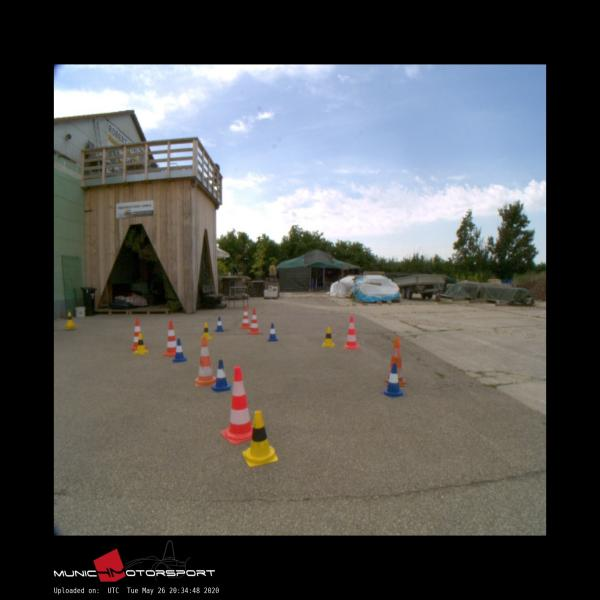blue_cone: (210, 359, 232, 392), (382, 364, 403, 396), (172, 338, 186, 360), (268, 323, 278, 340), (215, 316, 223, 331)
large_orange_cone: (221, 366, 256, 443), (195, 336, 217, 386), (385, 338, 406, 384), (164, 320, 181, 356), (130, 318, 146, 350), (343, 316, 359, 348), (248, 308, 260, 334), (241, 306, 250, 328)
yellow_cone: (242, 410, 278, 465), (133, 333, 149, 353), (321, 326, 334, 347), (201, 322, 210, 339), (65, 312, 74, 325)
